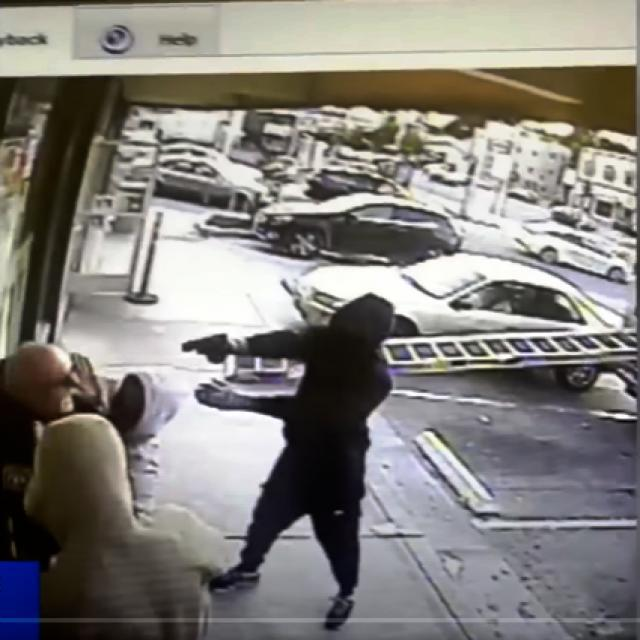Gun: (174, 322, 233, 376)
